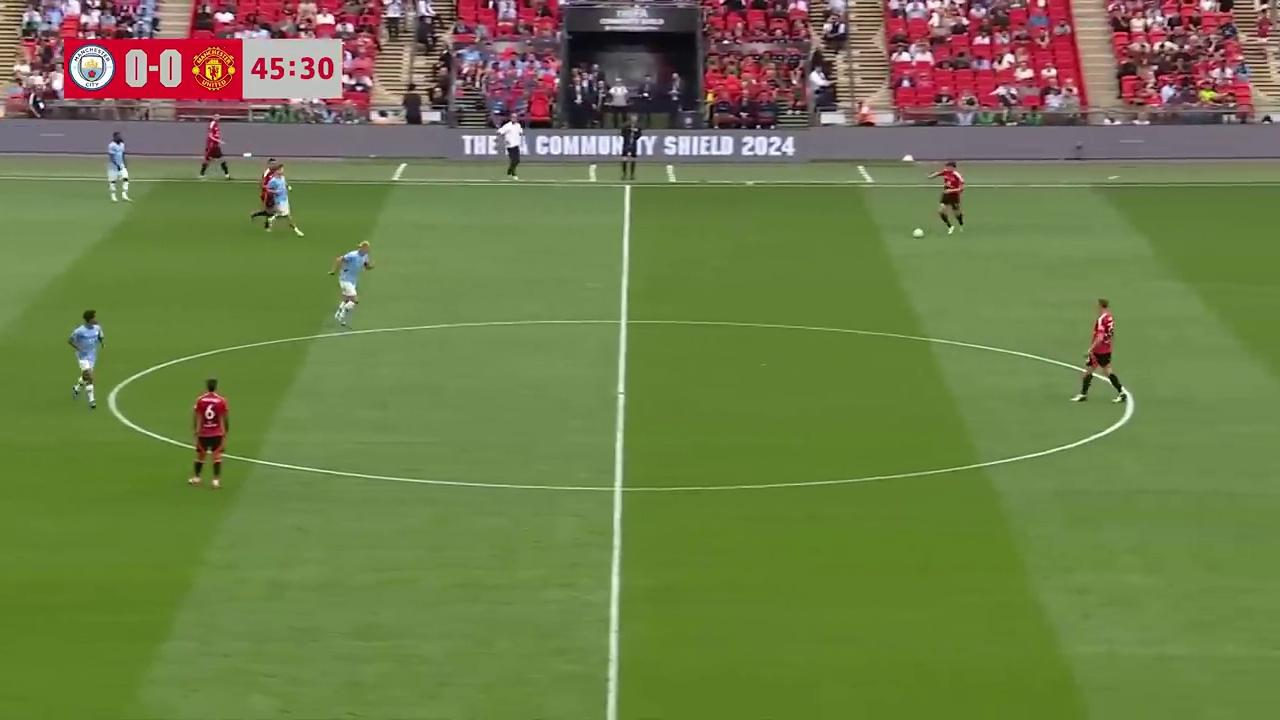ball: (911, 224, 925, 240)
player: (1070, 298, 1124, 402), (188, 378, 229, 488), (328, 240, 373, 323), (68, 309, 105, 409), (928, 161, 965, 234), (270, 162, 304, 236), (250, 153, 278, 230), (198, 117, 231, 179), (106, 131, 131, 202)
